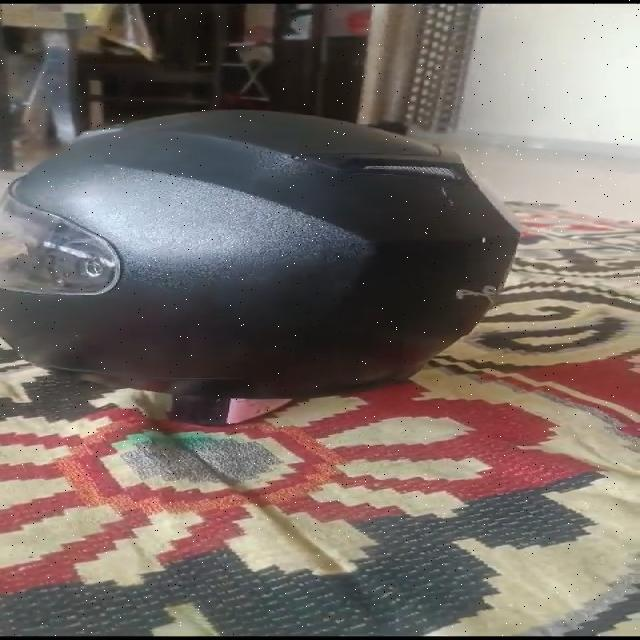Helmet: (1, 111, 518, 424)
